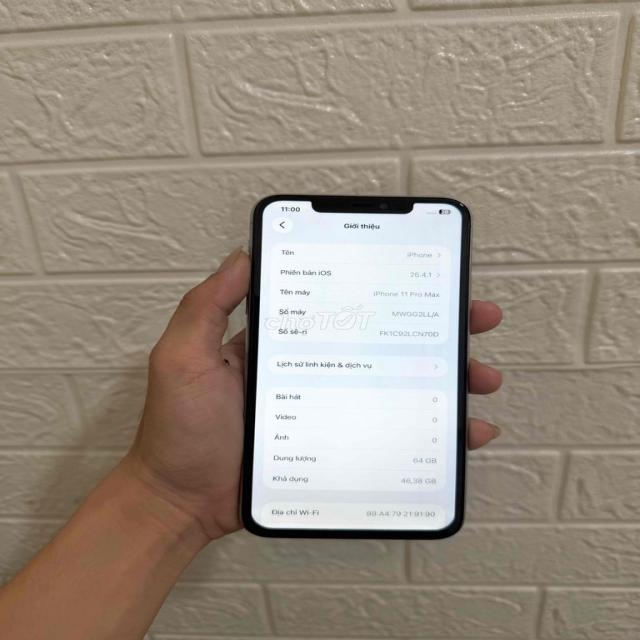gen_11: (239, 191, 474, 547)
